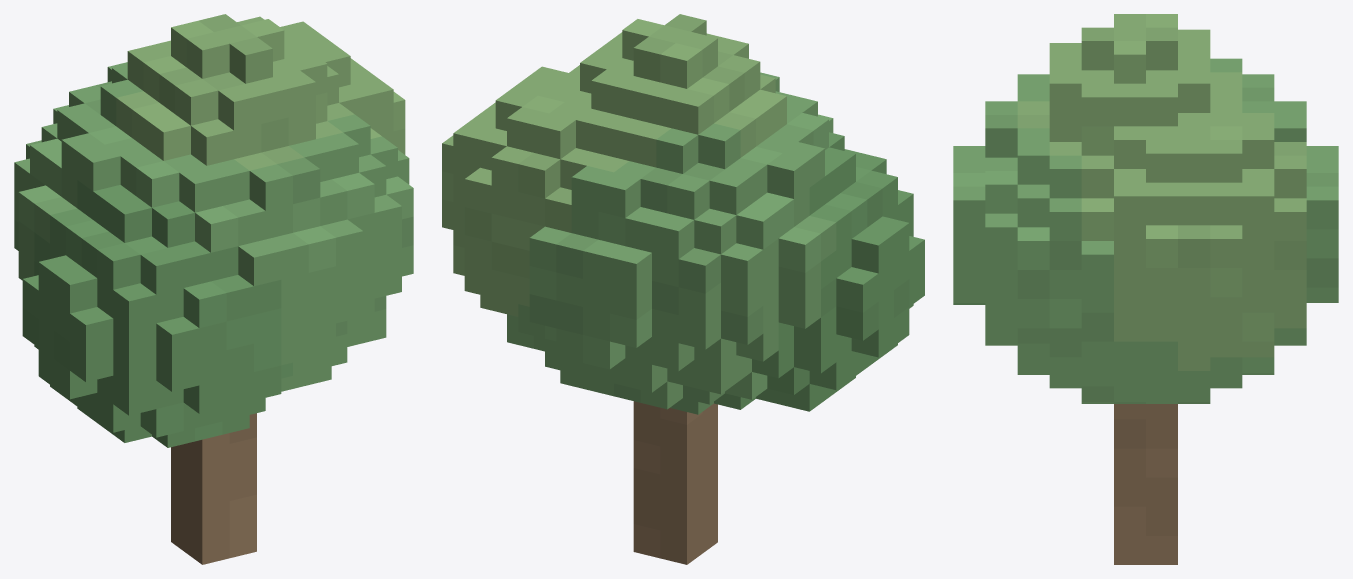
The model's file is arbre_0.glb.
The picture shows the model from 3 angles, left to right: view 1: azimuth 30°, elevation 25°; view 2: azimuth 150°, elevation 25°; view 3: azimuth 270°, elevation 25°; orthographic projection. The views are drawn at different scales.
Visible parts, largest first — view 1: geometry_0; view 2: geometry_0; view 3: geometry_0.
Boxes of the visible parts, x1=… form: geometry_0: x1=14, y1=14, x2=413, y2=564; geometry_0: x1=442, y1=14, x2=924, y2=564; geometry_0: x1=953, y1=14, x2=1338, y2=564.
Size of the model in its own units: 3.5 by 4.5 by 3.
